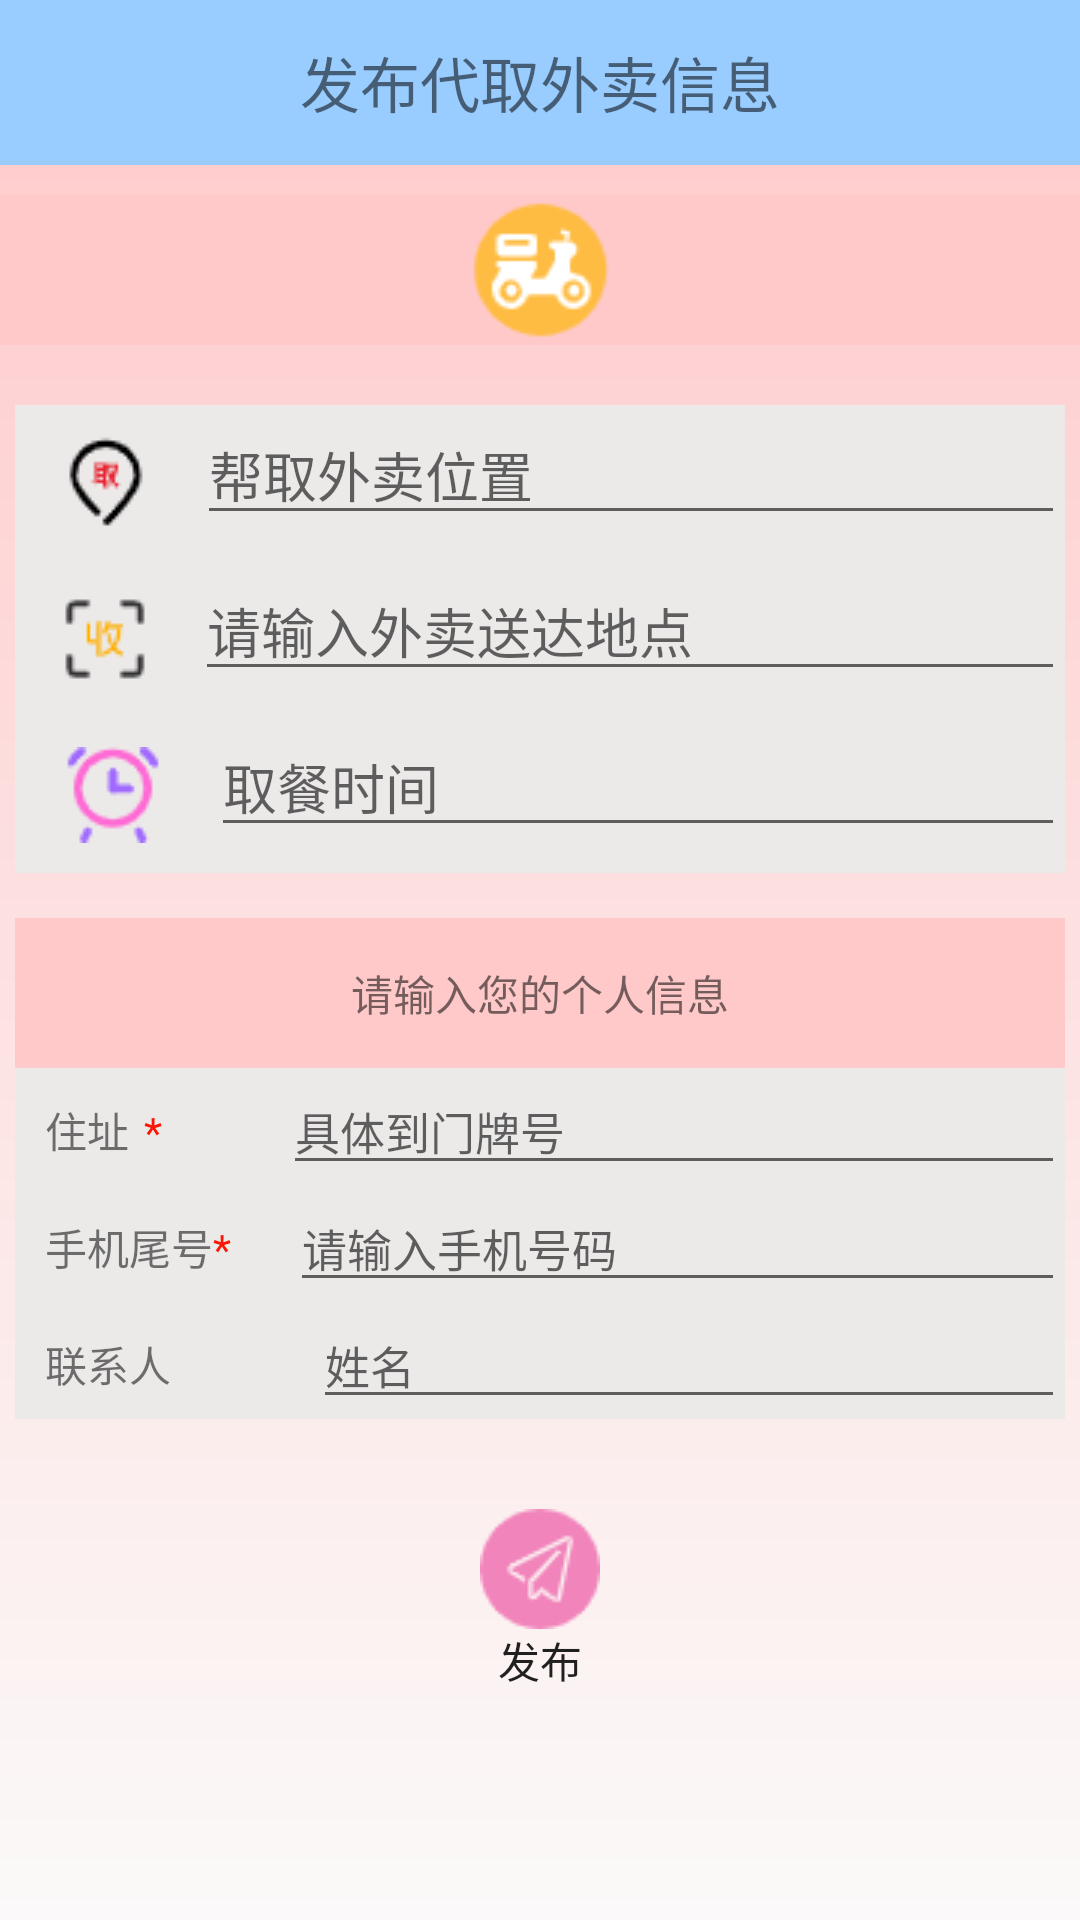

Locate icon controls on the screen. Image size 1080x1920, boxes as (left=x1, top=y1, right=x2, bottom=y2).
cycling: (left=473, top=203, right=608, bottom=337)
time: (left=67, top=747, right=159, bottom=843)
